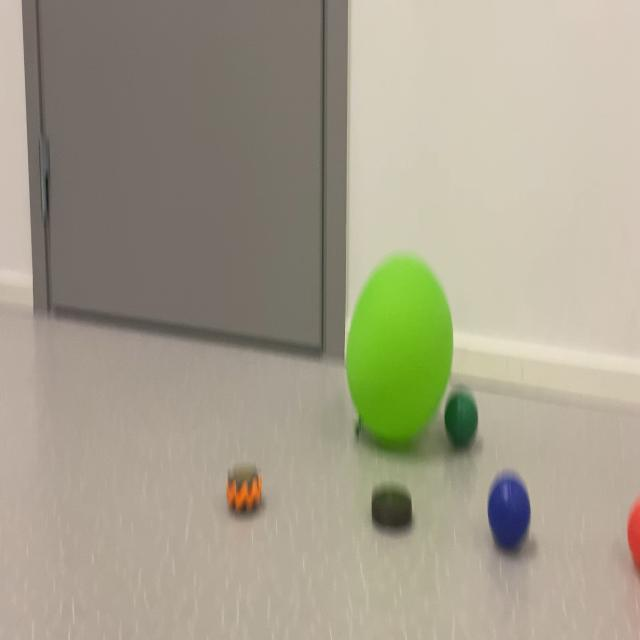green ball: (482, 467, 534, 564)
red ball: (442, 381, 485, 465)
